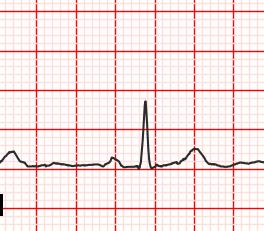LVH: (171, 142, 217, 168)
